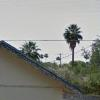Tree: (57, 14, 84, 54)
